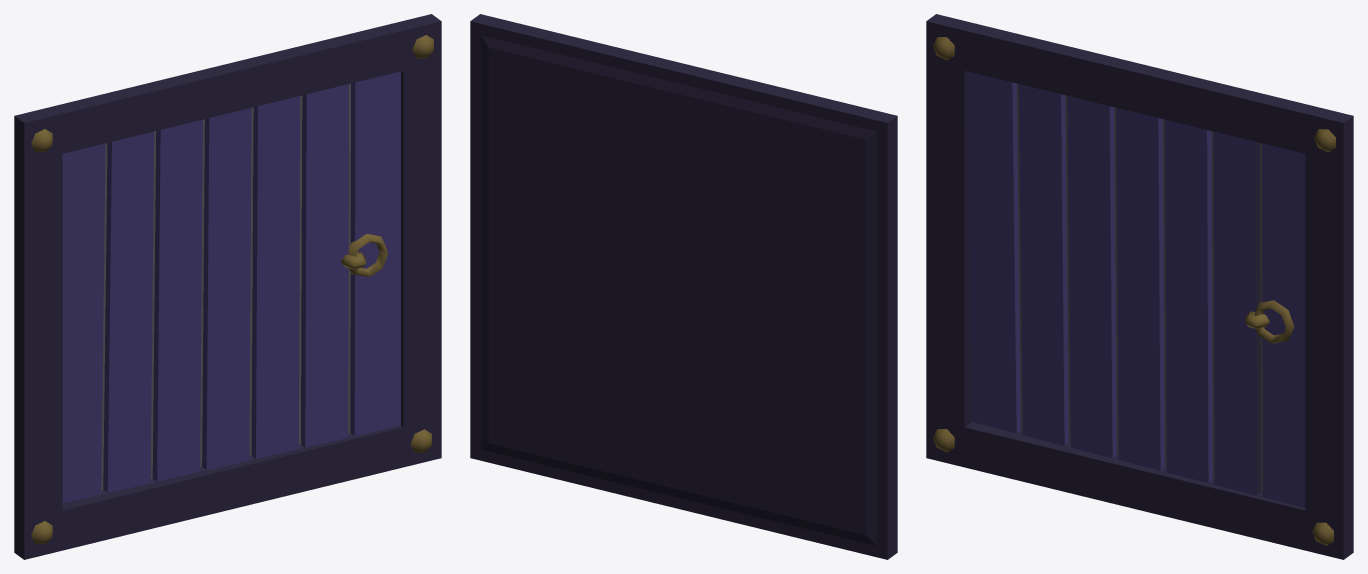
Rendered from makeshift-buckler.glb.
3 renders of one model, left to right at view 1: azimuth 30°, elevation 25°; view 2: azimuth 150°, elevation 25°; view 3: azimuth 330°, elevation 25°, orthographic.
Visible parts, largest first — view 1: Makeshift Buckler - trap-door; view 2: Makeshift Buckler - trap-door; view 3: Makeshift Buckler - trap-door.
Part boxes in pixels (x1,y1,x2,y2): Makeshift Buckler - trap-door: (14,14,441,559); Makeshift Buckler - trap-door: (470,14,897,559); Makeshift Buckler - trap-door: (926,14,1353,559).
Size of the model in its own units: 0.5894 by 0.5894 by 0.0416.
